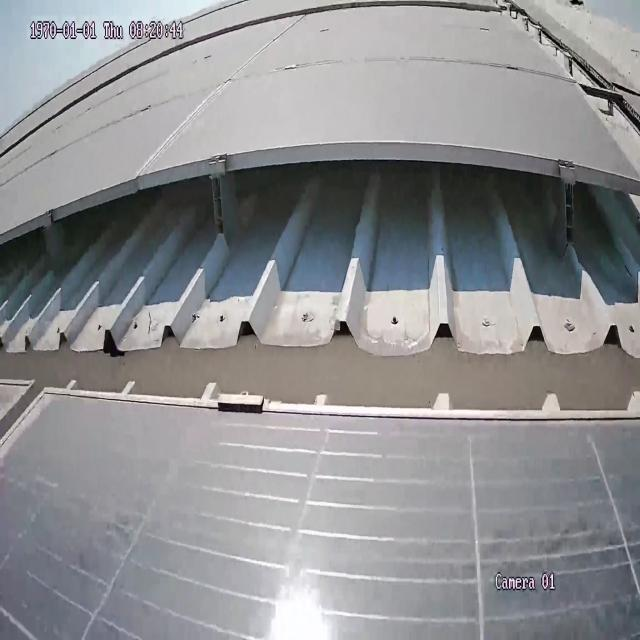interior panel: (144, 21, 305, 155)
outher panel: (0, 154, 640, 417), (492, 0, 639, 184)
